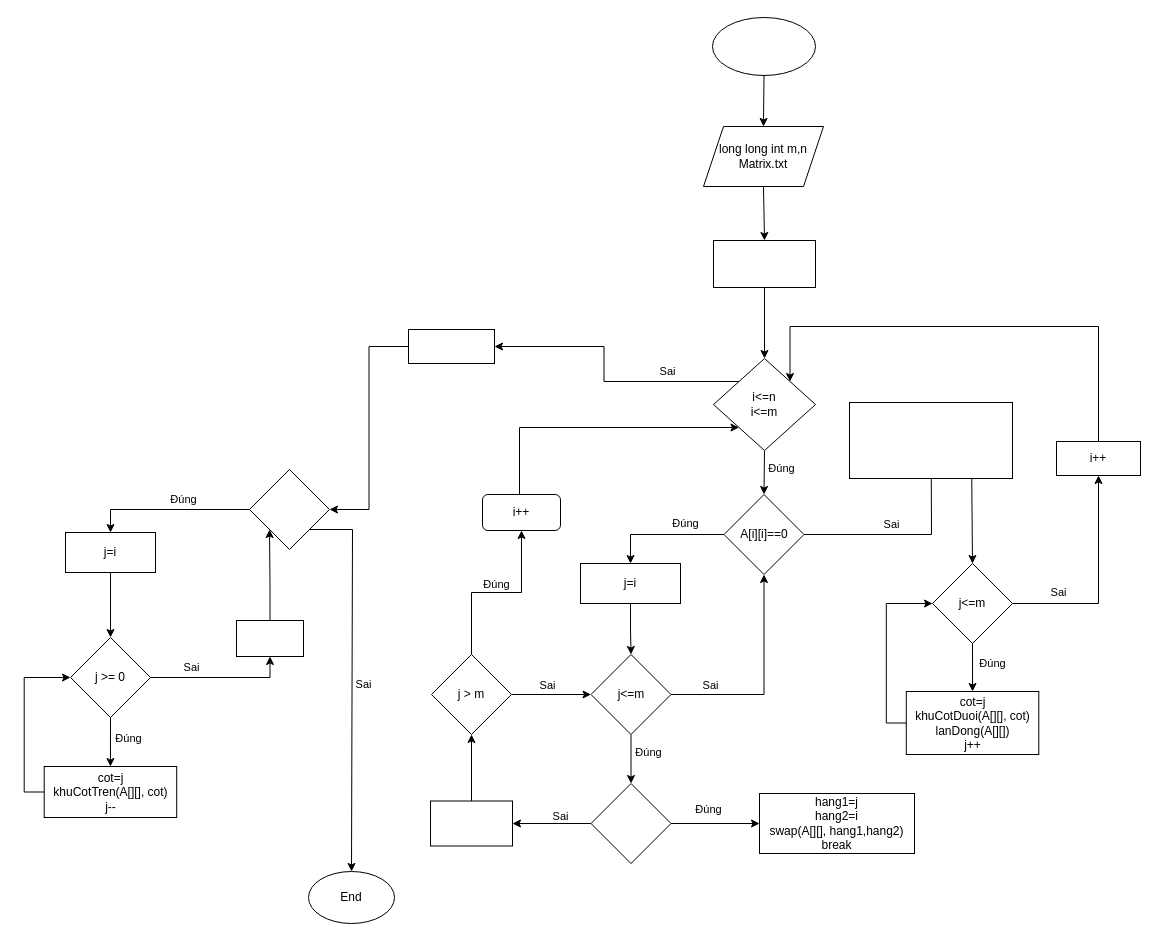
Some shapes in this 1159 by 941 pixel diagram are drawn without their labels. The shapes that lost their labels are listed below. From the top down, each one's centre as x and y in pixels, then its label:
the point at 764,46: Begin
the point at 764,264: i=0
the point at 451,346: i=n
the point at 930,440: giaTri=A[i][i] hang=i chiaHang(A[][], hang, giaTri) j=i
the point at 289,509: i >= 0
the point at 270,638: i--
the point at 471,823: j++
the point at 630,823: A[i][j]!=0
